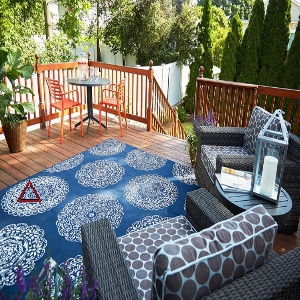triangle: (16, 179, 41, 203)
